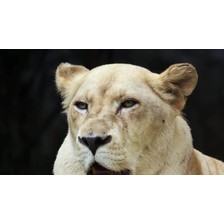lion: (49, 53, 224, 176)
